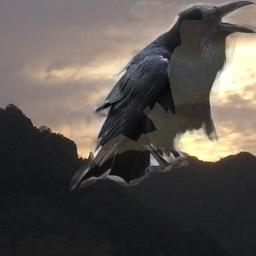Crow: (70, 1, 256, 193)
